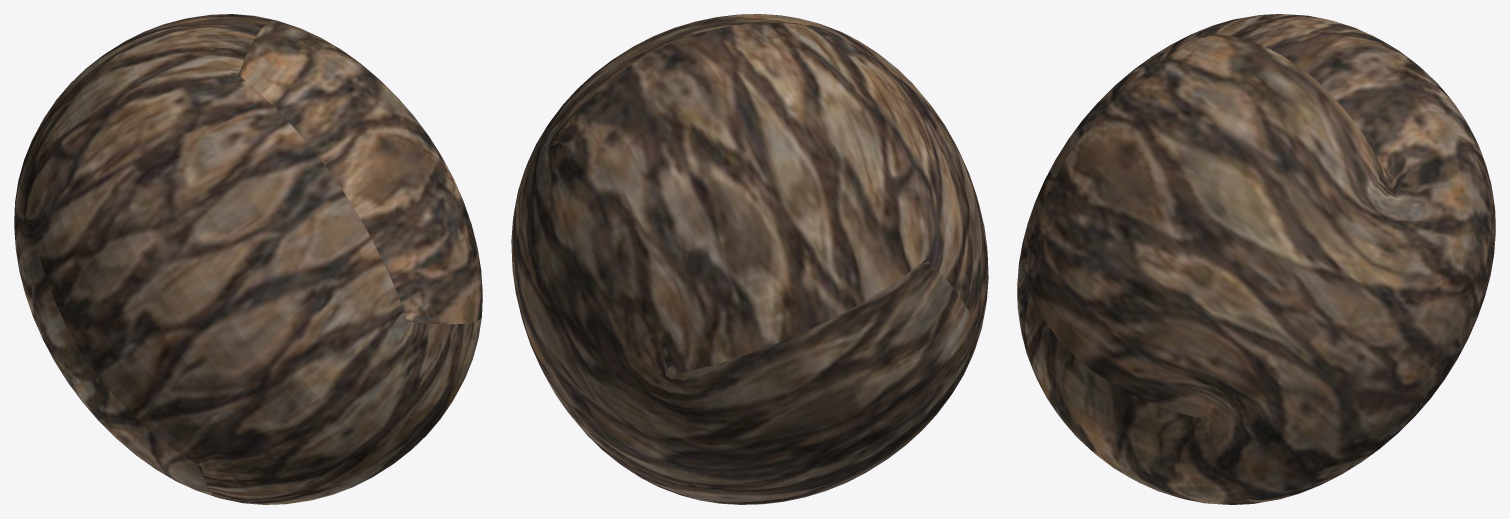
The model's file is palmCube1.glb.
3 renders of one model, left to right at view 1: azimuth 30°, elevation 25°; view 2: azimuth 150°, elevation 25°; view 3: azimuth 270°, elevation 25°, orthographic. The views are drawn at different scales.
Parts seen in each view (by area): view 1: Cube; view 2: Cube; view 3: Cube.
Part boxes in pixels (box(x1,y1,x2,y2)): Cube: box(14, 14, 482, 504); Cube: box(511, 14, 988, 504); Cube: box(1017, 14, 1495, 504).
Size of the model in its own units: 1.75 by 1.86 by 1.83.
1 material, 1 textured.
